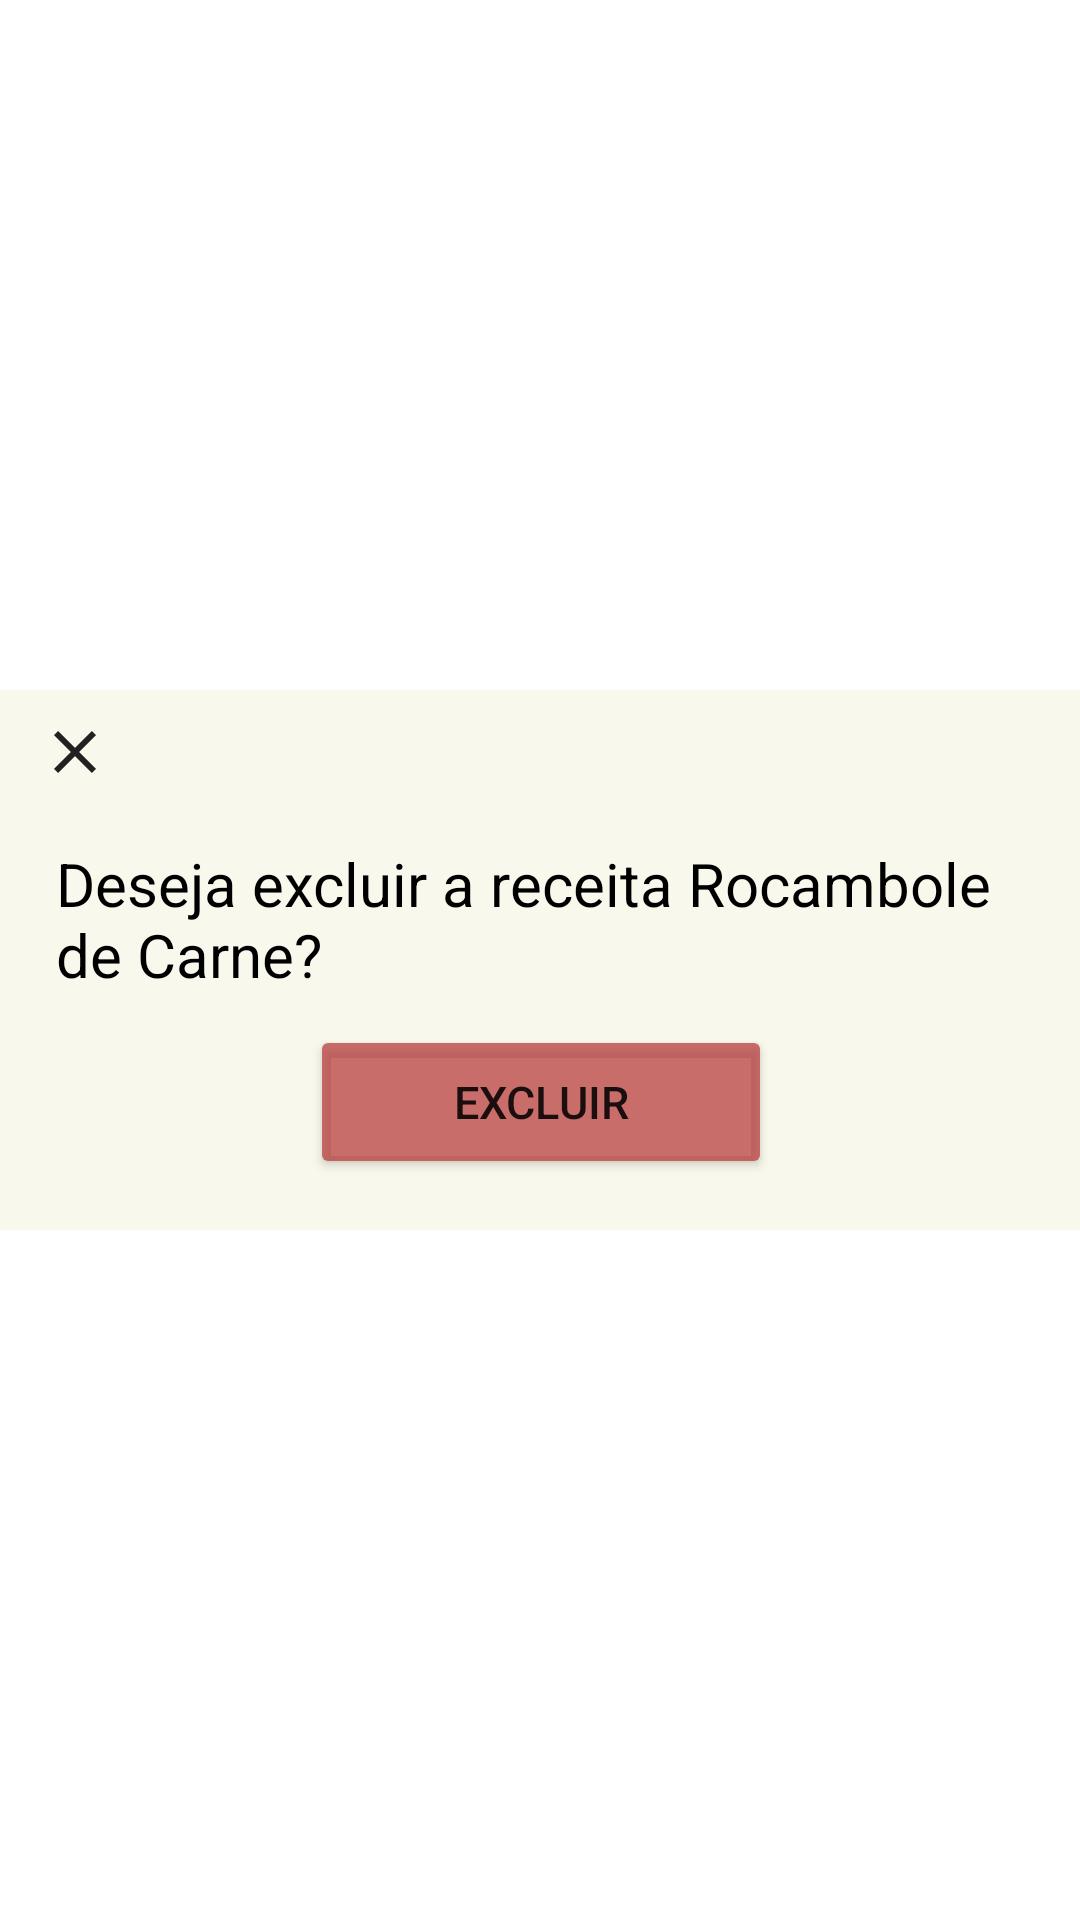

Icons on this 1080px×1920px Android screen, each with the point to tap as (x=x, y=y):
close: (x=75, y=752)
